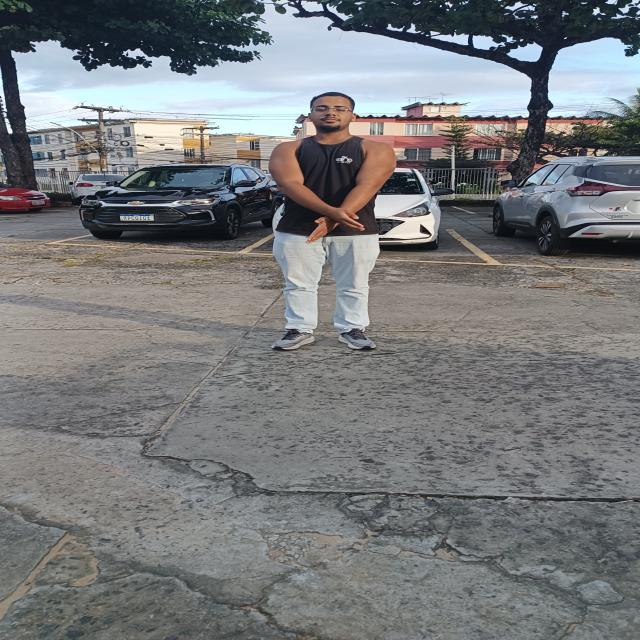land: (270, 91, 395, 350)
